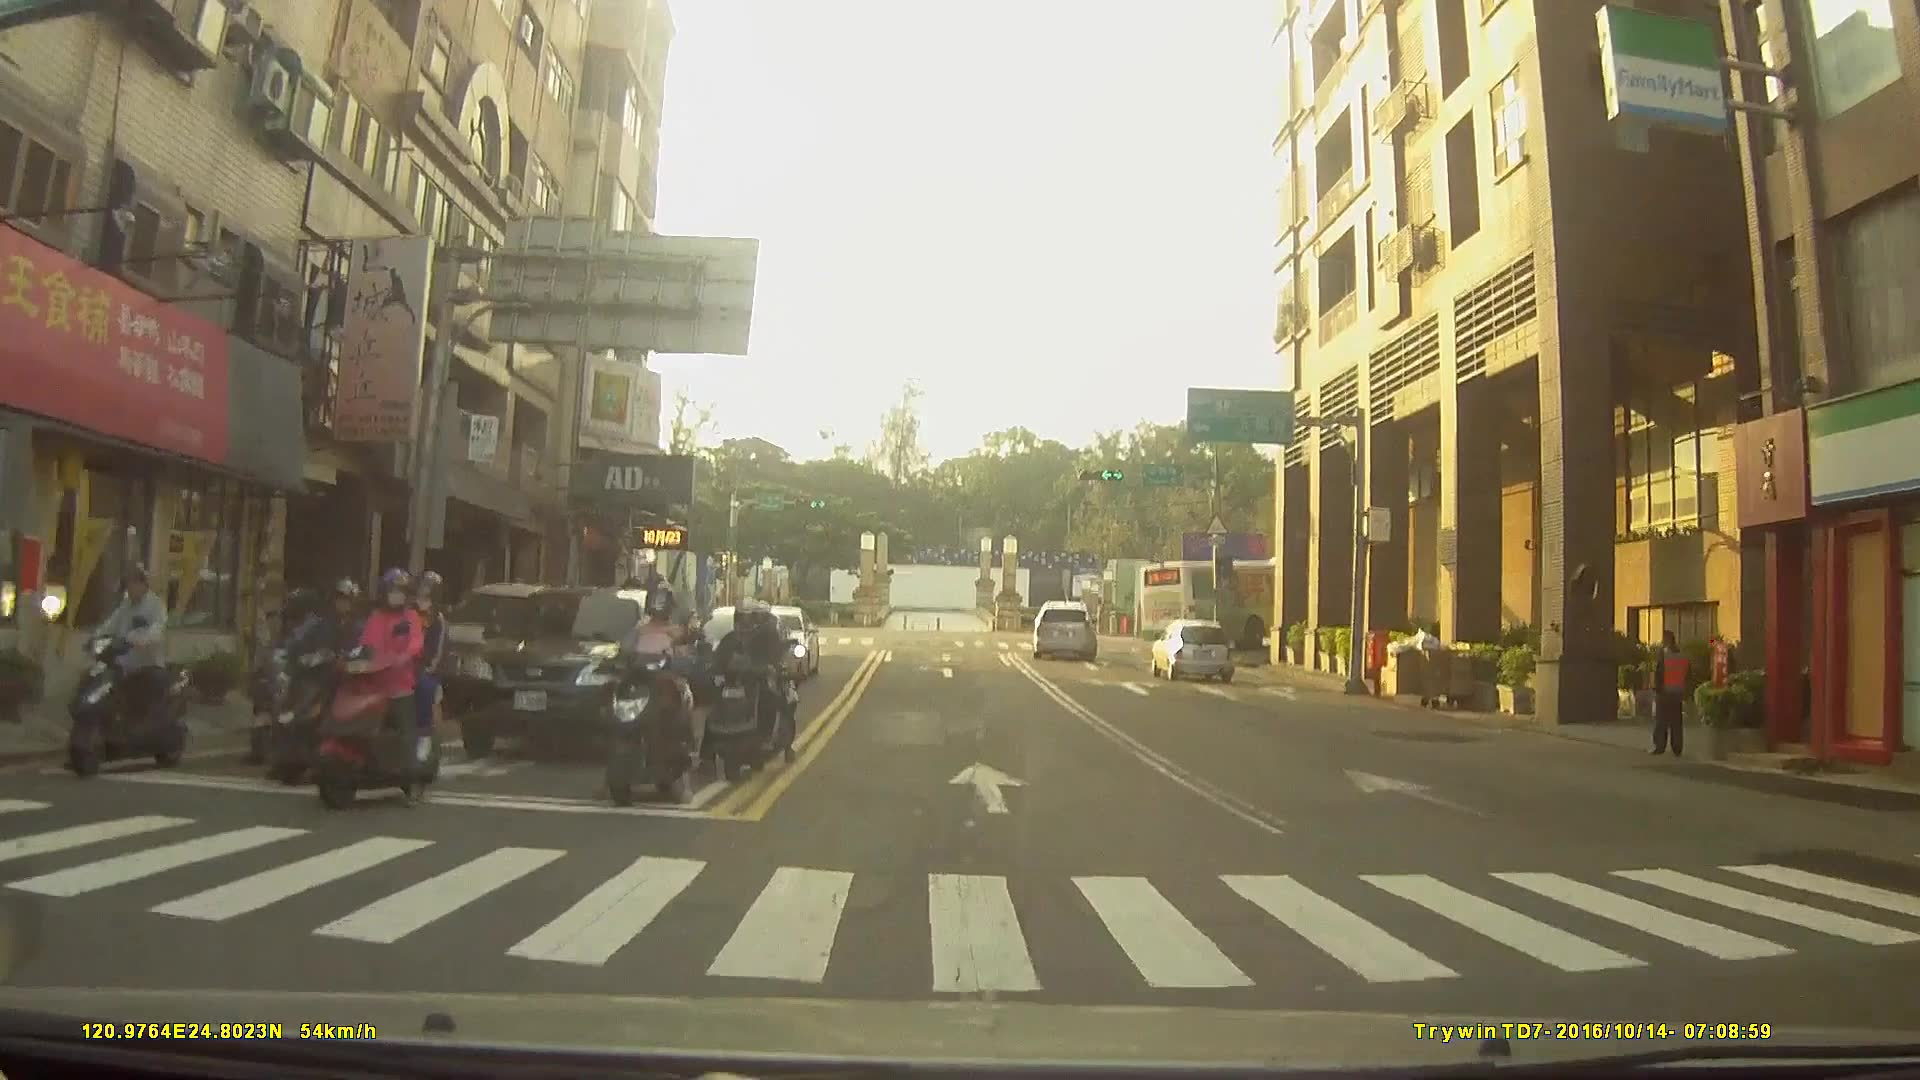pedestrian: (1640, 627, 1702, 759)
rider: (308, 568, 452, 807), (59, 560, 184, 778), (595, 582, 713, 804), (270, 579, 397, 780), (703, 601, 797, 784)
vehicle: (451, 585, 691, 756), (1136, 554, 1364, 647), (1147, 618, 1233, 678), (1030, 599, 1100, 656)
